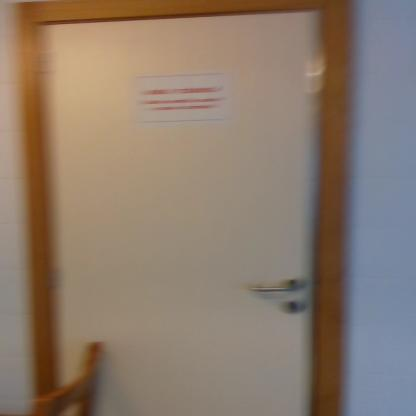closed: (4, 6, 352, 416)
